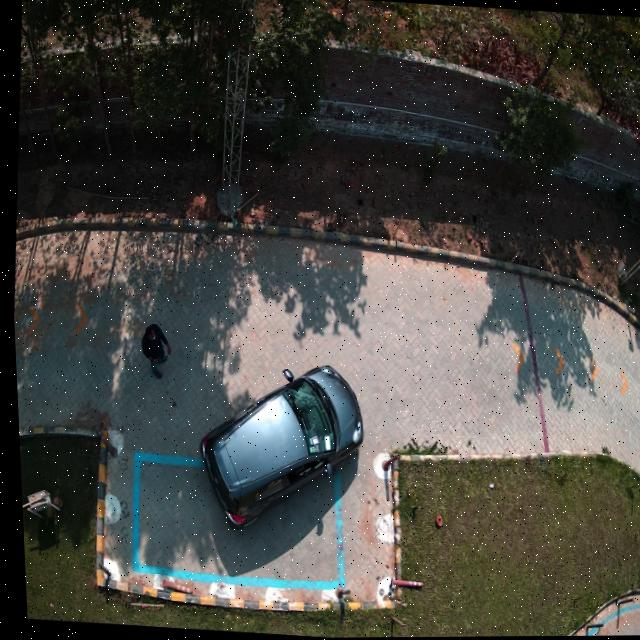car: (196, 366, 359, 529)
